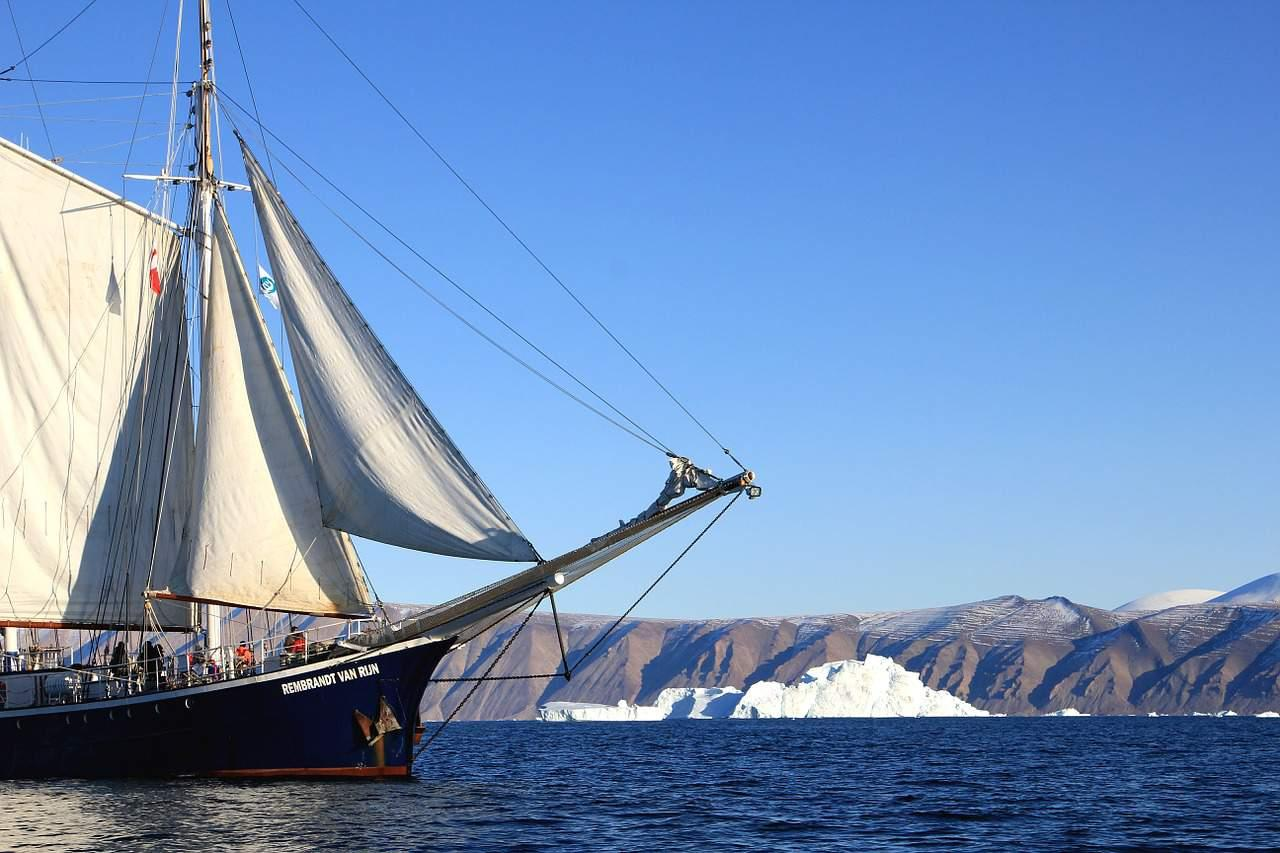Ship: (1, 1, 764, 784)
